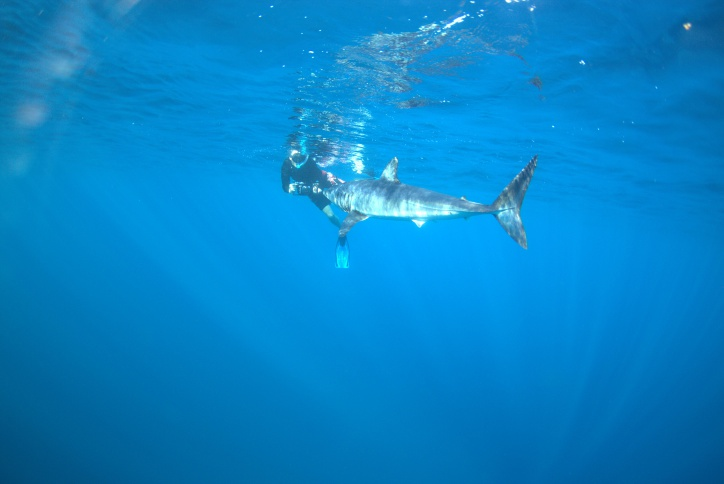Mako: (312, 148, 549, 263)
